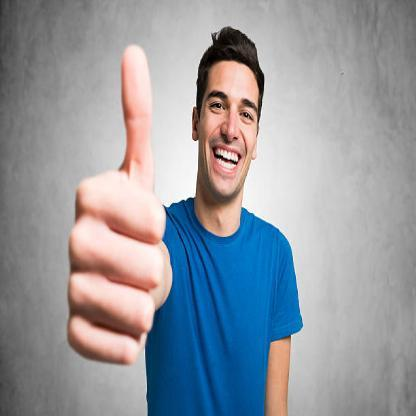thumb_up: (65, 40, 170, 367)
